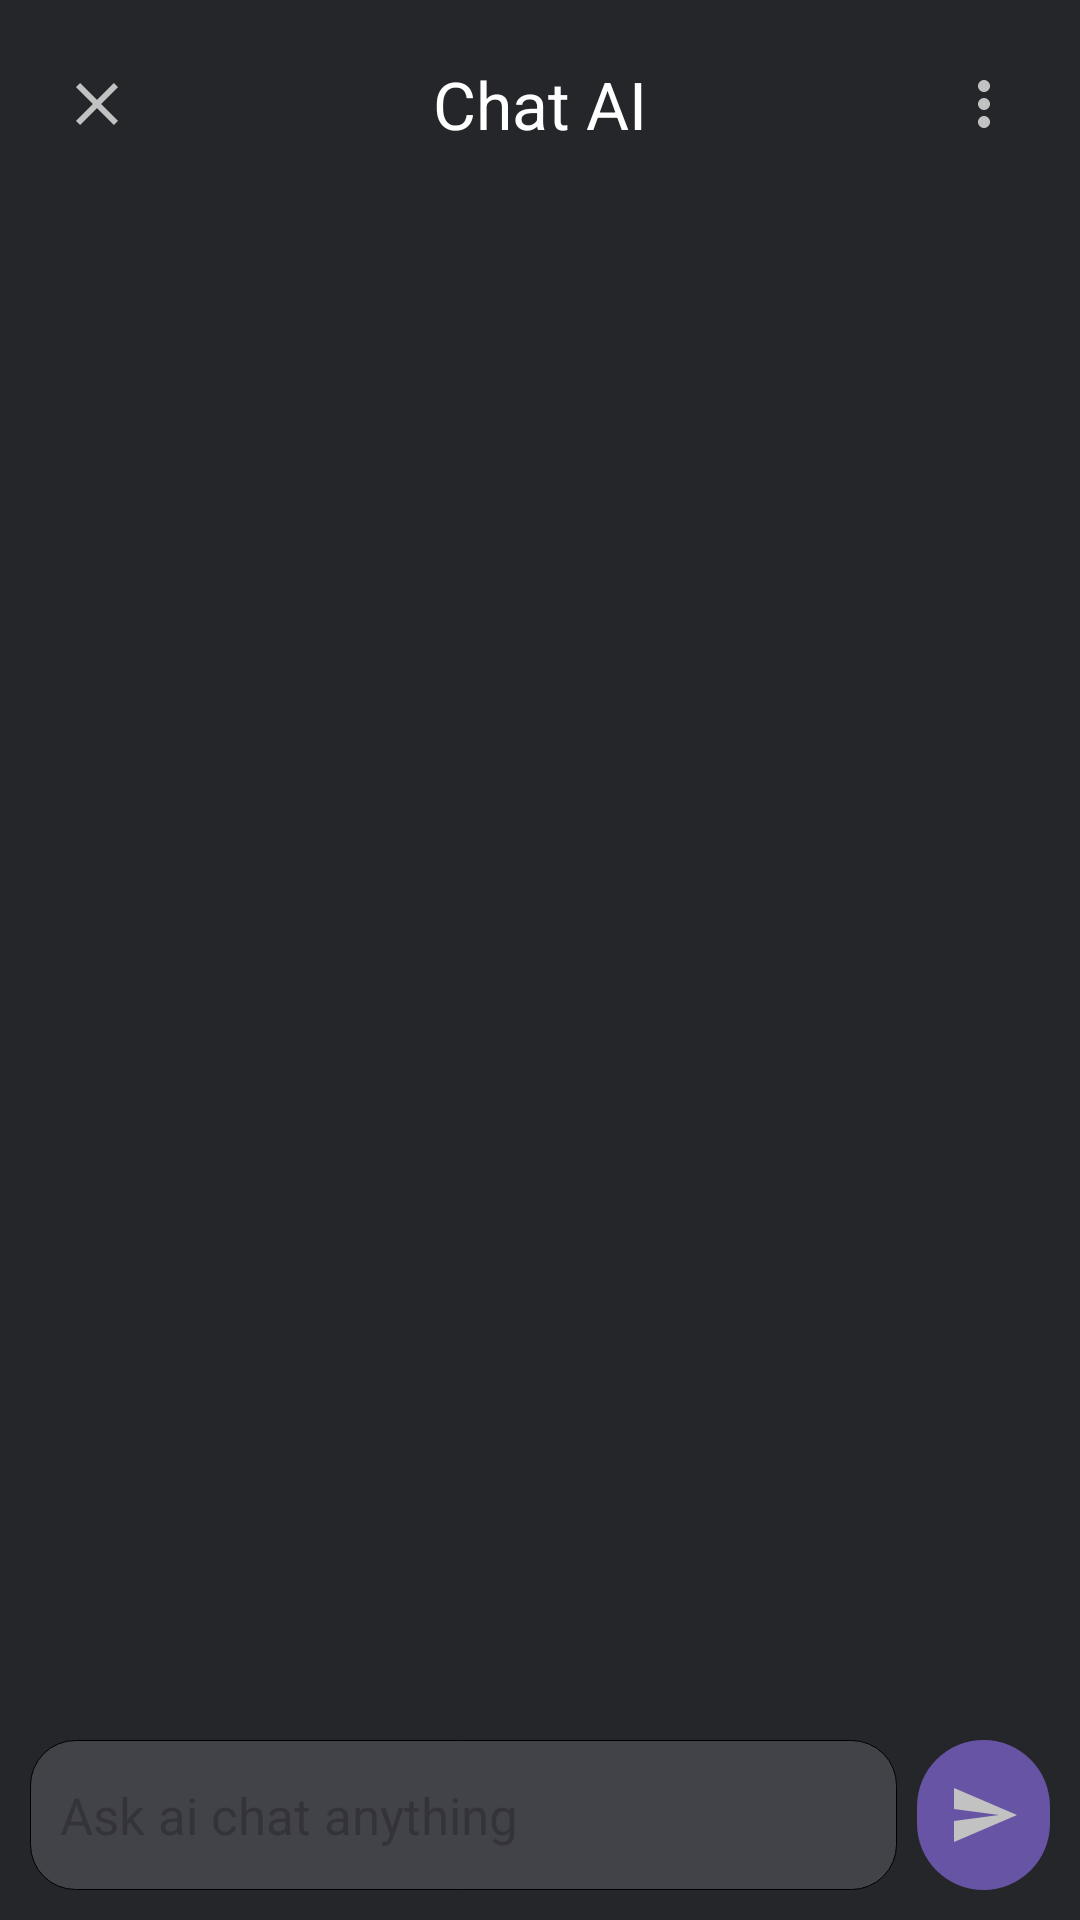

Screen size 1080 x 1920. Icon name, then its box in pixels as (x1, y1, x2, y2):
close: (76, 83, 118, 125)
more: (978, 80, 990, 128)
send: (917, 1740, 1050, 1890)
